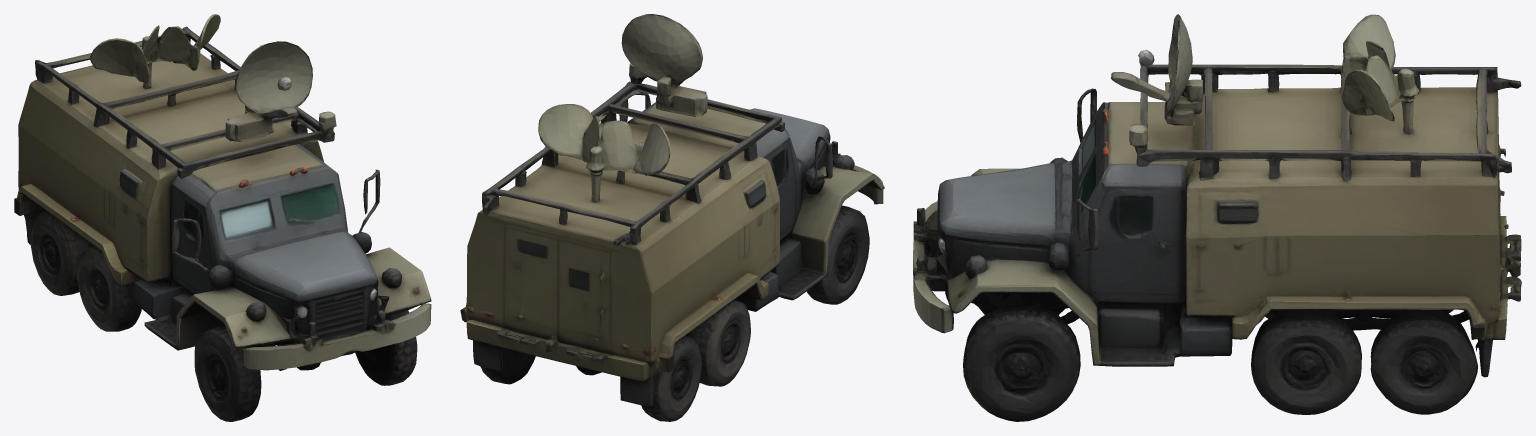
The model's file is e4a35a11-8ff0-4c02-ad1c-9d29eda559c5.glb.
The picture shows the model from 3 angles, left to right: view 1: azimuth 30°, elevation 25°; view 2: azimuth 150°, elevation 25°; view 3: azimuth 270°, elevation 25°; orthographic projection. The views are drawn at different scales.
Visible parts, largest first — view 1: geometry_0; view 2: geometry_0; view 3: geometry_0.
Boxes of the visible parts, x1,y1,x2,y2 form: geometry_0: [14, 14, 431, 421]; geometry_0: [460, 14, 884, 421]; geometry_0: [913, 14, 1521, 421].
Bounding box in the file's own units: 0.4801 × 0.6664 × 0.9946.
1 material, 1 textured.
